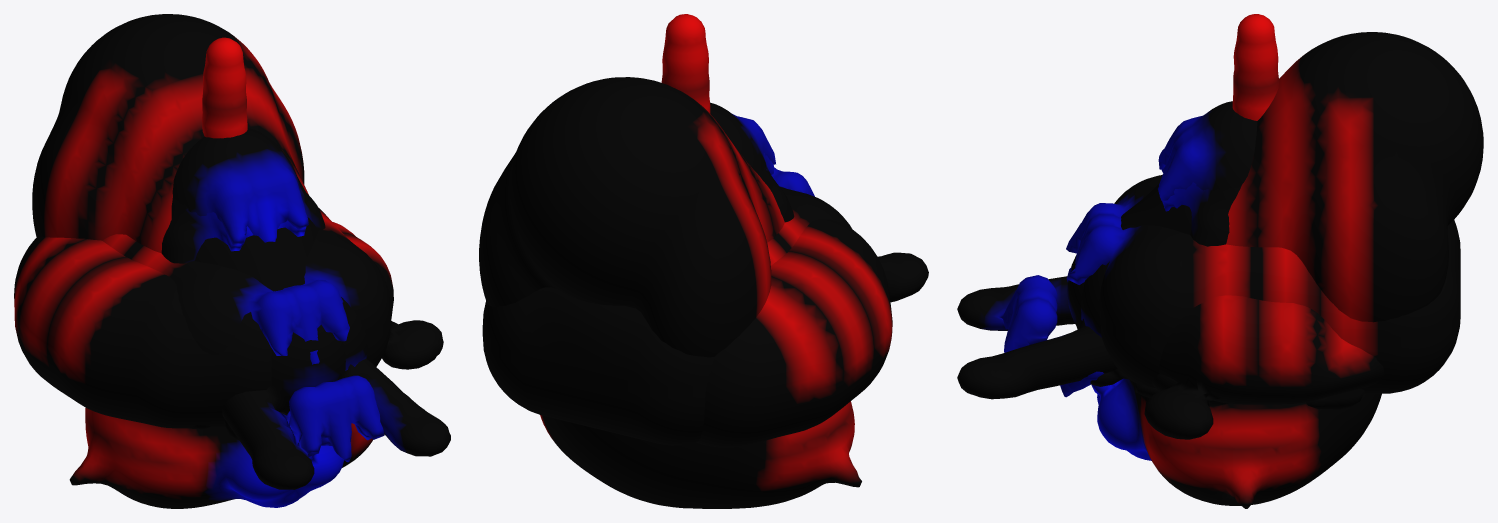
File: cat-tabby.glb
3 views of the same model, side by side, from view 1: azimuth 30°, elevation 25°; view 2: azimuth 150°, elevation 25°; view 3: azimuth 270°, elevation 25° (orthographic). The views are drawn at different scales.
Parts seen in each view (by area): view 1: body_crouch, body_curl, body_loaf, head, body_sit, tail, body_float; view 2: body_crouch, body_curl, body_loaf, head, tail, body_sit, body_float; view 3: body_crouch, body_loaf, body_curl, head, body_sit, tail, body_float.
Part boxes in pixels (x1,y1,x2,y2): body_crouch: (32,14,450,489); body_curl: (14,222,443,445); body_loaf: (102,207,390,440); head: (69,408,372,508); body_sit: (172,128,308,429); tail: (202,37,247,138); body_float: (161,178,325,263); body_crouch: (479,77,928,357); body_curl: (696,219,892,447); body_loaf: (482,167,851,445); head: (540,401,861,508); tail: (661,14,710,113); body_sit: (710,102,775,173); body_float: (757,153,794,222); body_crouch: (957,32,1483,409); body_loaf: (1066,175,1460,393); body_curl: (1060,174,1384,439); head: (1091,378,1381,508); body_sit: (1135,101,1257,397); tail: (1232,14,1278,120); body_float: (1152,165,1241,405).
Size of the model in its own units: 0.8862 by 1.05 by 1.09.
